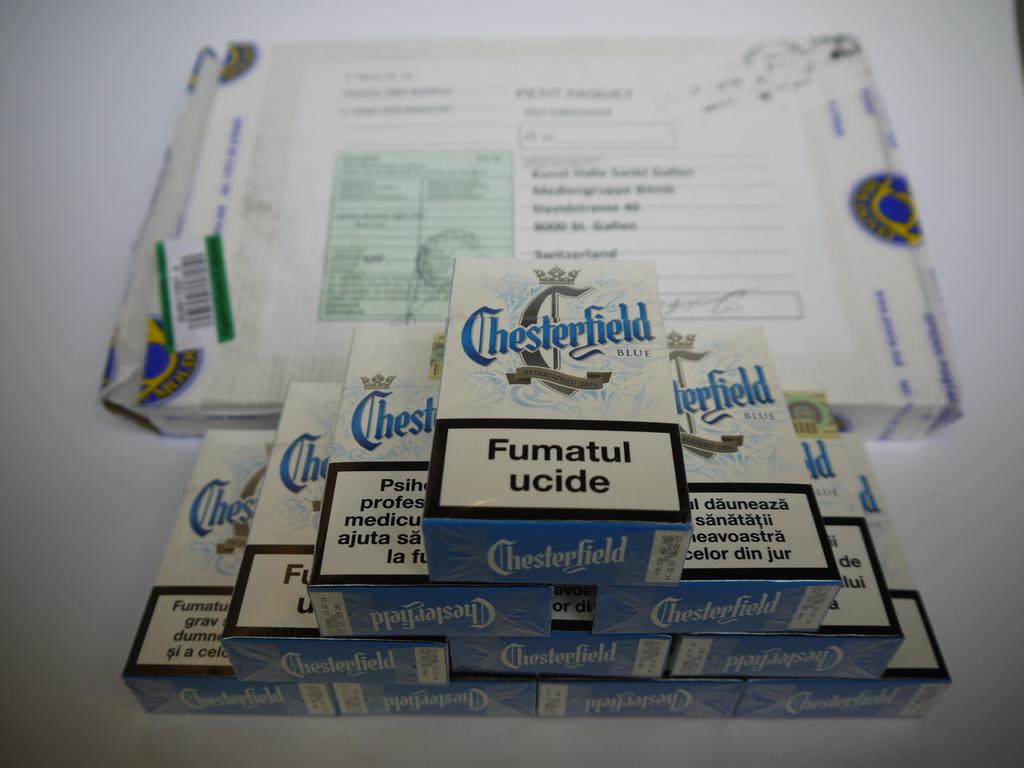chesterfield_blue: (440, 250, 666, 517)
